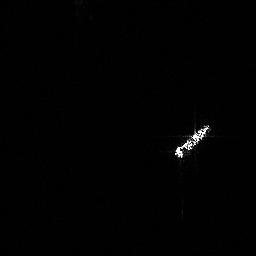ship: (170, 118, 214, 163)
